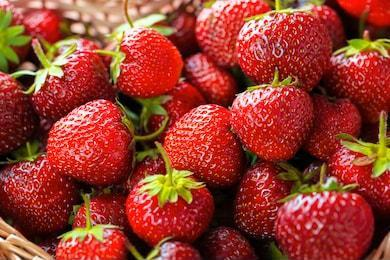Fresa: (43, 96, 136, 191), (234, 4, 332, 94), (272, 181, 378, 260), (228, 79, 318, 166), (159, 100, 246, 189), (123, 167, 218, 247), (105, 24, 188, 101), (1, 152, 73, 235), (328, 34, 390, 129)
